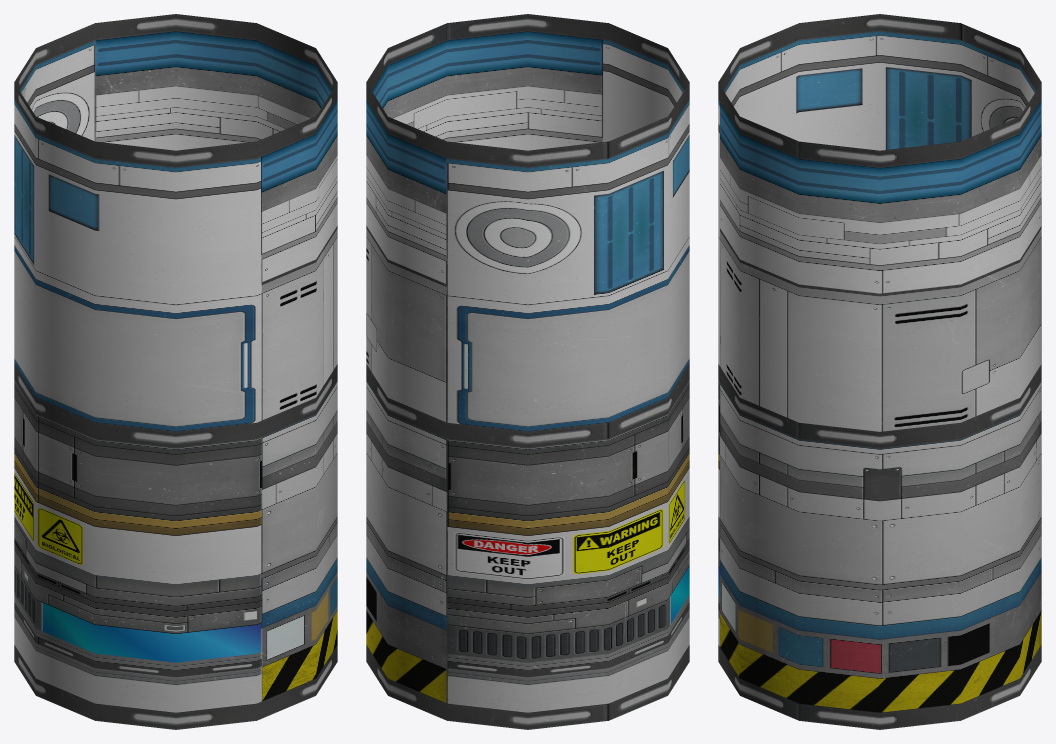
The model's file is Tube_Glass_Blue.FBX.
3 views of the same model, side by side, from view 1: azimuth 30°, elevation 25°; view 2: azimuth 150°, elevation 25°; view 3: azimuth 270°, elevation 25° (orthographic).
Parts seen in each view (by area): view 1: Glass, Tube_Glass_Blue; view 2: Glass, Tube_Glass_Blue; view 3: Glass, Tube_Glass_Blue.
Part boxes in pixels (x1,y1,x2,y2): Glass: (14,31,337,712); Tube_Glass_Blue: (14,14,337,729); Glass: (366,31,689,712); Tube_Glass_Blue: (366,14,689,729); Glass: (718,31,1041,712); Tube_Glass_Blue: (718,14,1041,729).
Size of the model in its own units: 51.11 by 101 by 51.11.
